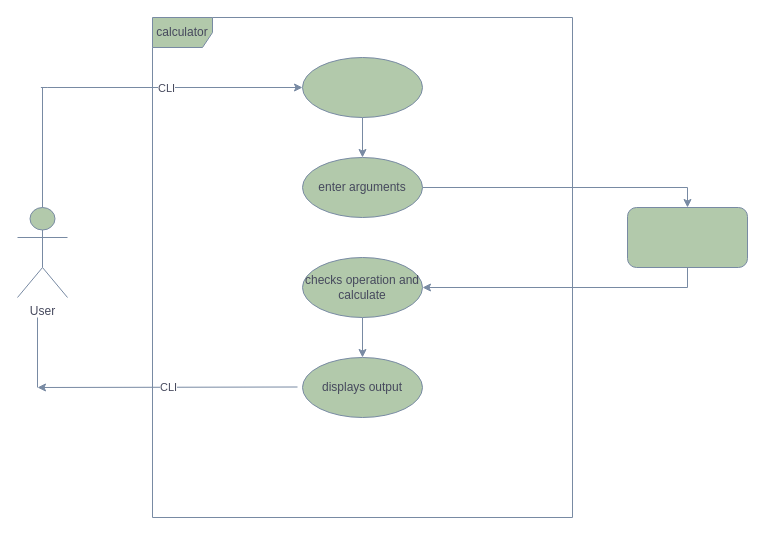
Image size: 765x535. Some labels were removed from this diagram. The shapes that lost their labels are listed below. From the top down, each one's centre as x and y in pixels, then its label:
the point at 362,87: selecting operation
the point at 687,237: Compiler
